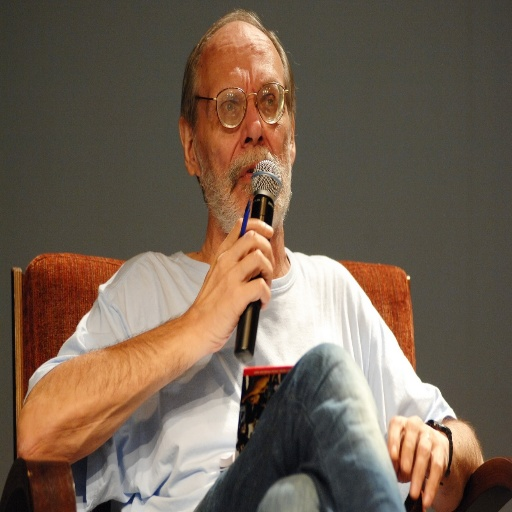hand: (191, 215, 275, 351), (391, 416, 482, 500)
